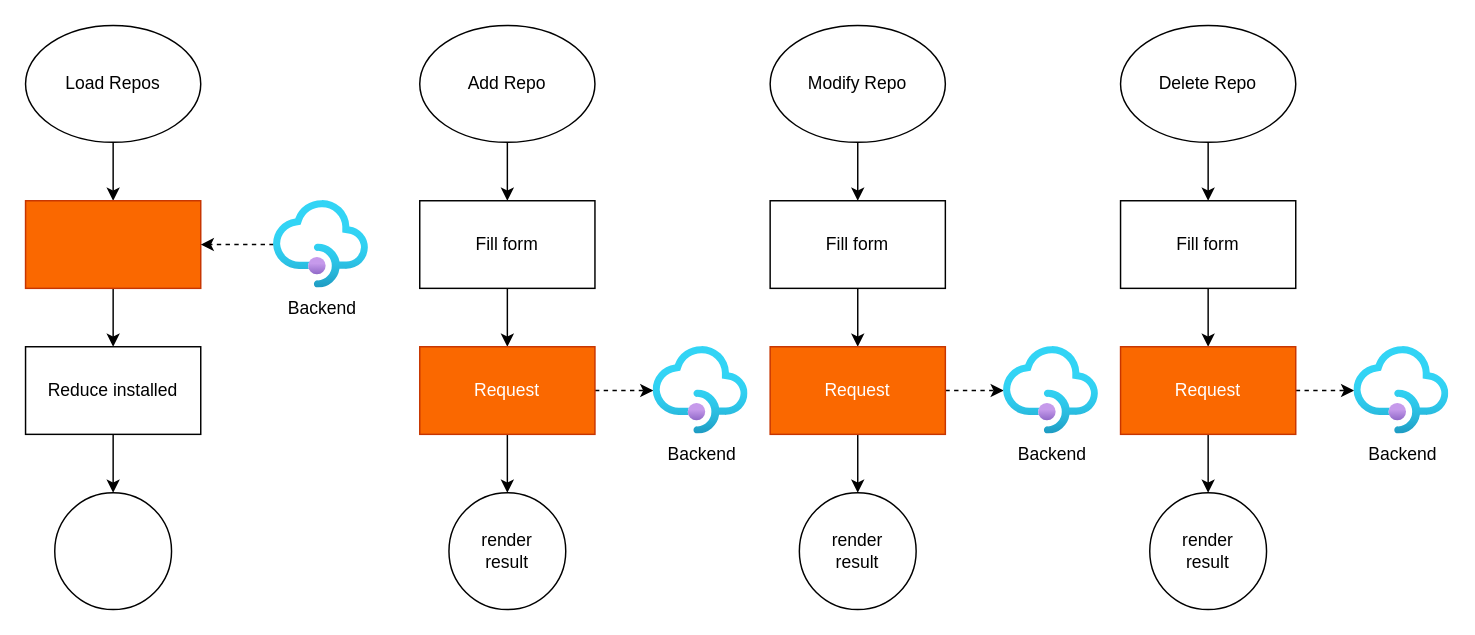
This 1475x635 diagram has some shape labels left out. Here are the shapes that lost their labels. From the top down, the centre of each, then its label:
(x=112, y=243): Get Repos
(x=112, y=550): render
